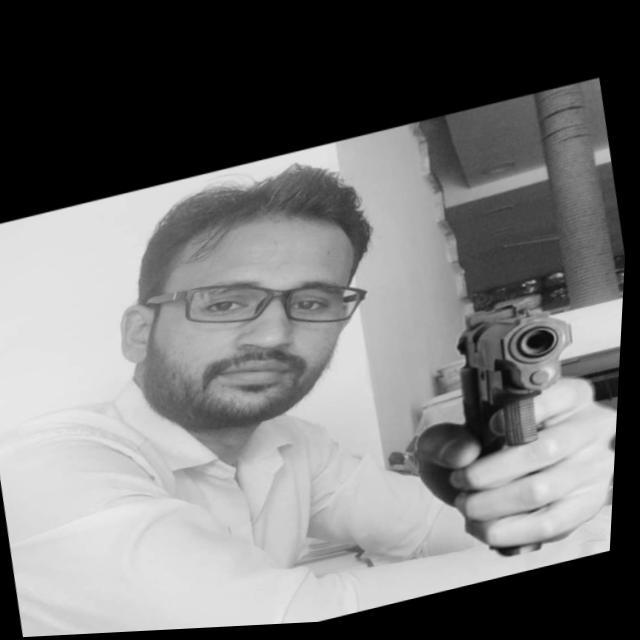weapon: (414, 282, 628, 587)
